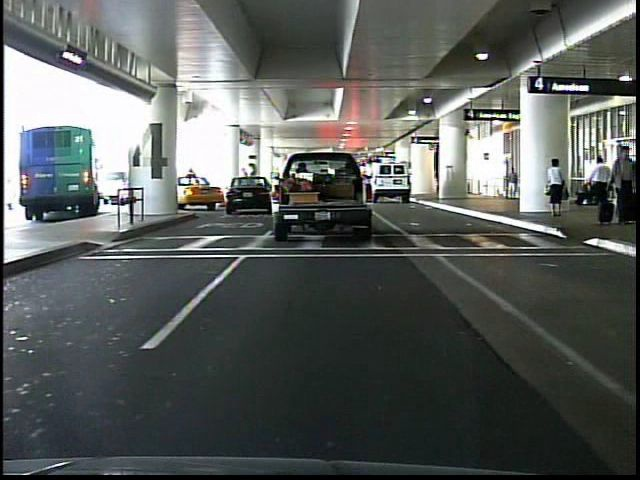person: (607, 145, 637, 230), (543, 156, 569, 218), (588, 154, 612, 218), (503, 163, 520, 206)
